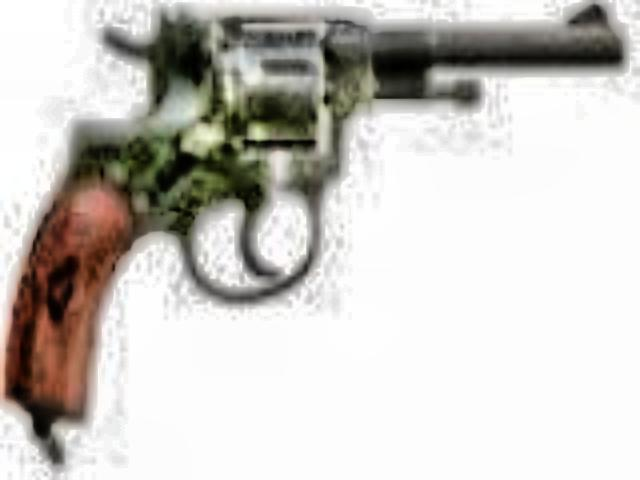pistol: (4, 0, 620, 408)
